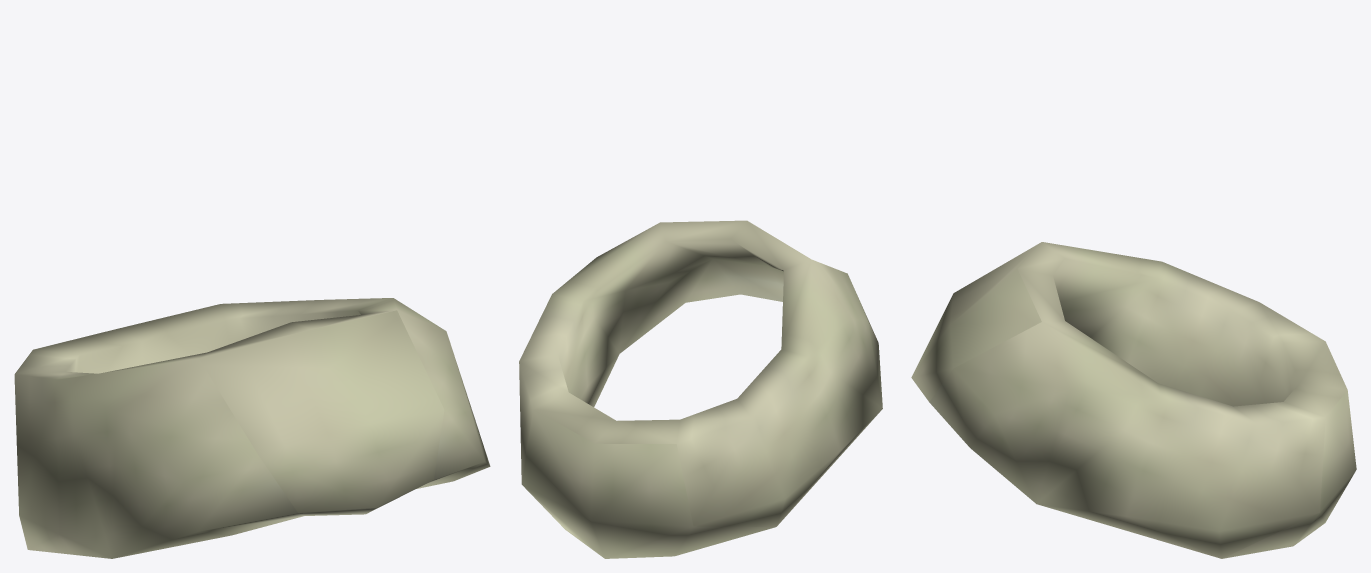
File: inca_ba_2.dae
3 views of the same model, side by side, from view 1: azimuth 30°, elevation 25°; view 2: azimuth 150°, elevation 25°; view 3: azimuth 270°, elevation 25° (orthographic). The views are drawn at different scales.
Visible parts, largest first — view 1: faixa_02; view 2: faixa_02; view 3: faixa_02.
Part boxes in pixels (left/top/right/bottom): faixa_02: left=14, top=298, right=490, bottom=558; faixa_02: left=519, top=220, right=882, bottom=558; faixa_02: left=911, top=242, right=1356, bottom=558.
Bounding box in the file's own units: 0.4975 × 0.6123 × 0.7561.
